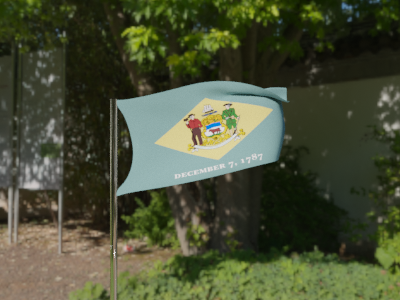Delaware flag: (115, 81, 291, 198)
